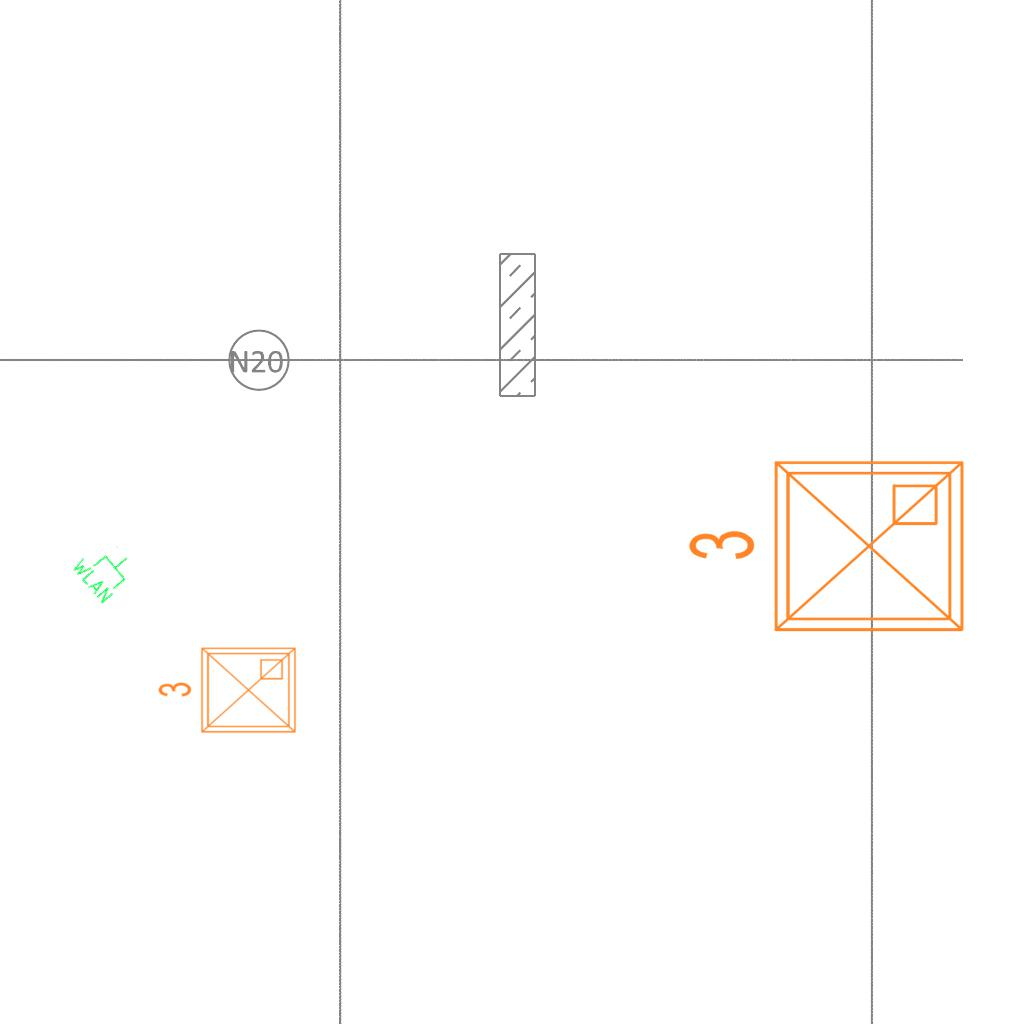Einbaudownlights_LED_Konferenzraeume: (678, 446, 978, 654), (153, 640, 303, 744)
WLAN: (68, 533, 142, 607)
